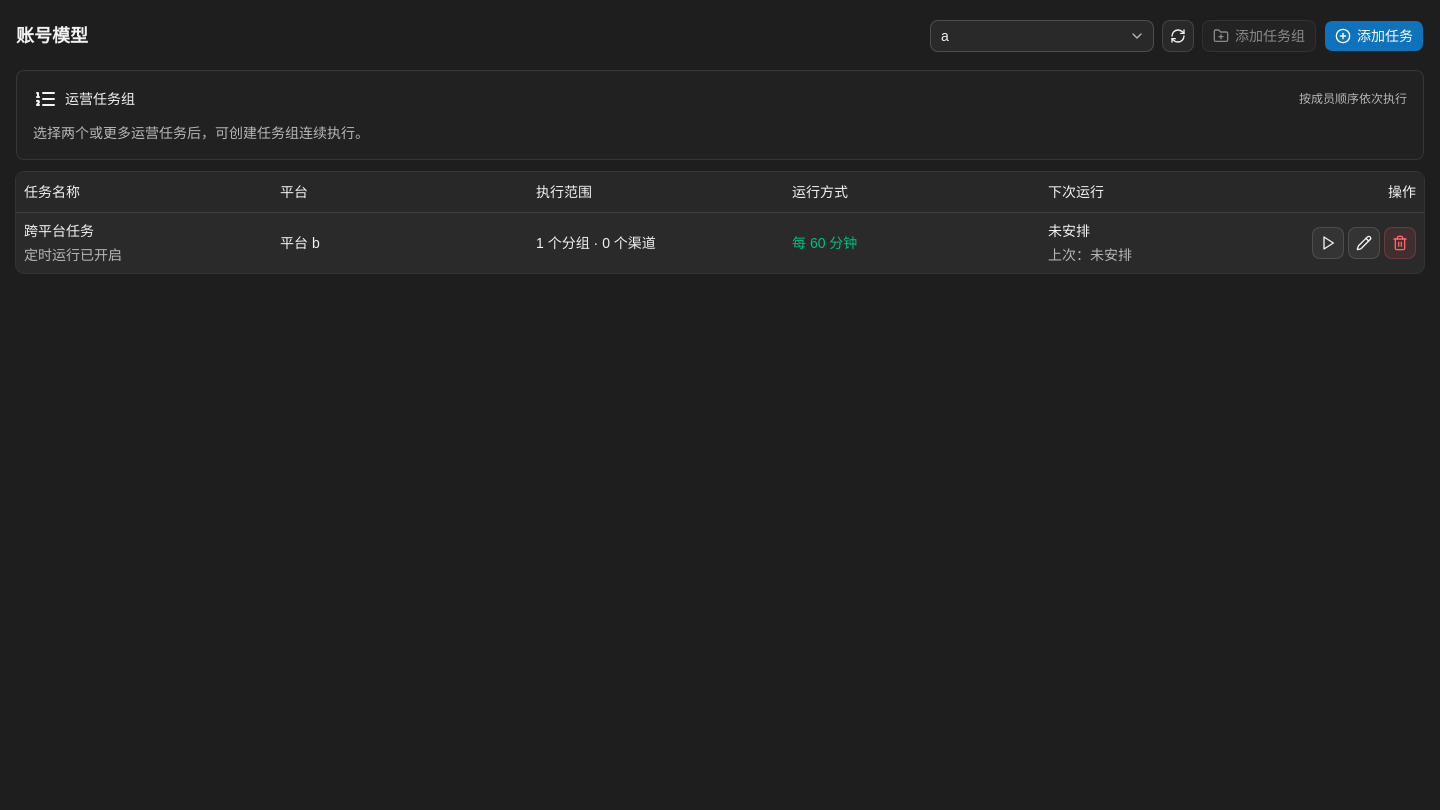
it: 编辑渠道读取期间通过 取消 关闭时中止请求且迟到分页不重新打开弹窗
Click the button named "编辑": (1364, 242) [1348,226,1380,258]
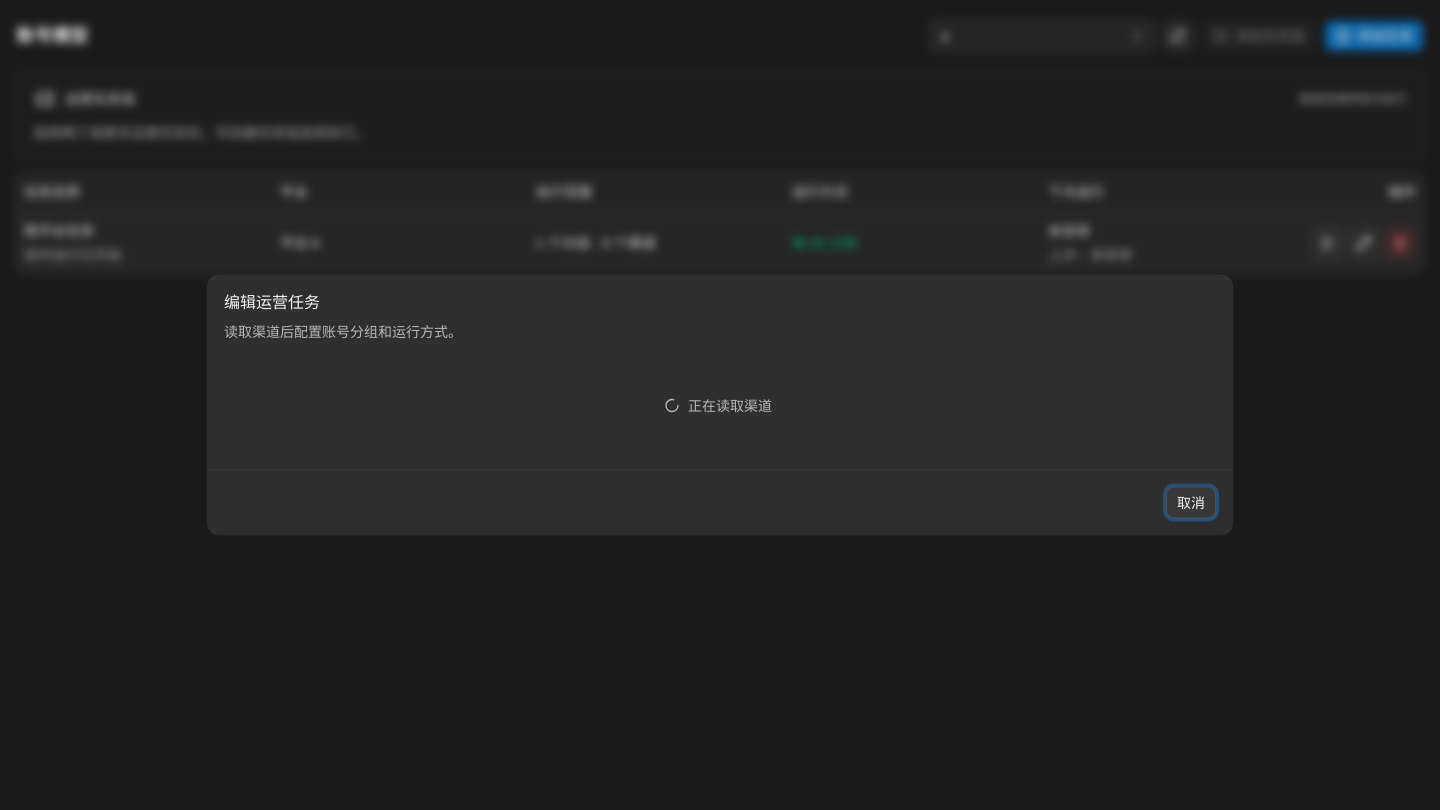
Check: the message "正在读取渠道" is shown, box [664,398,772,414]
Click the button "取消": (1191, 502) [1166,486,1216,518]
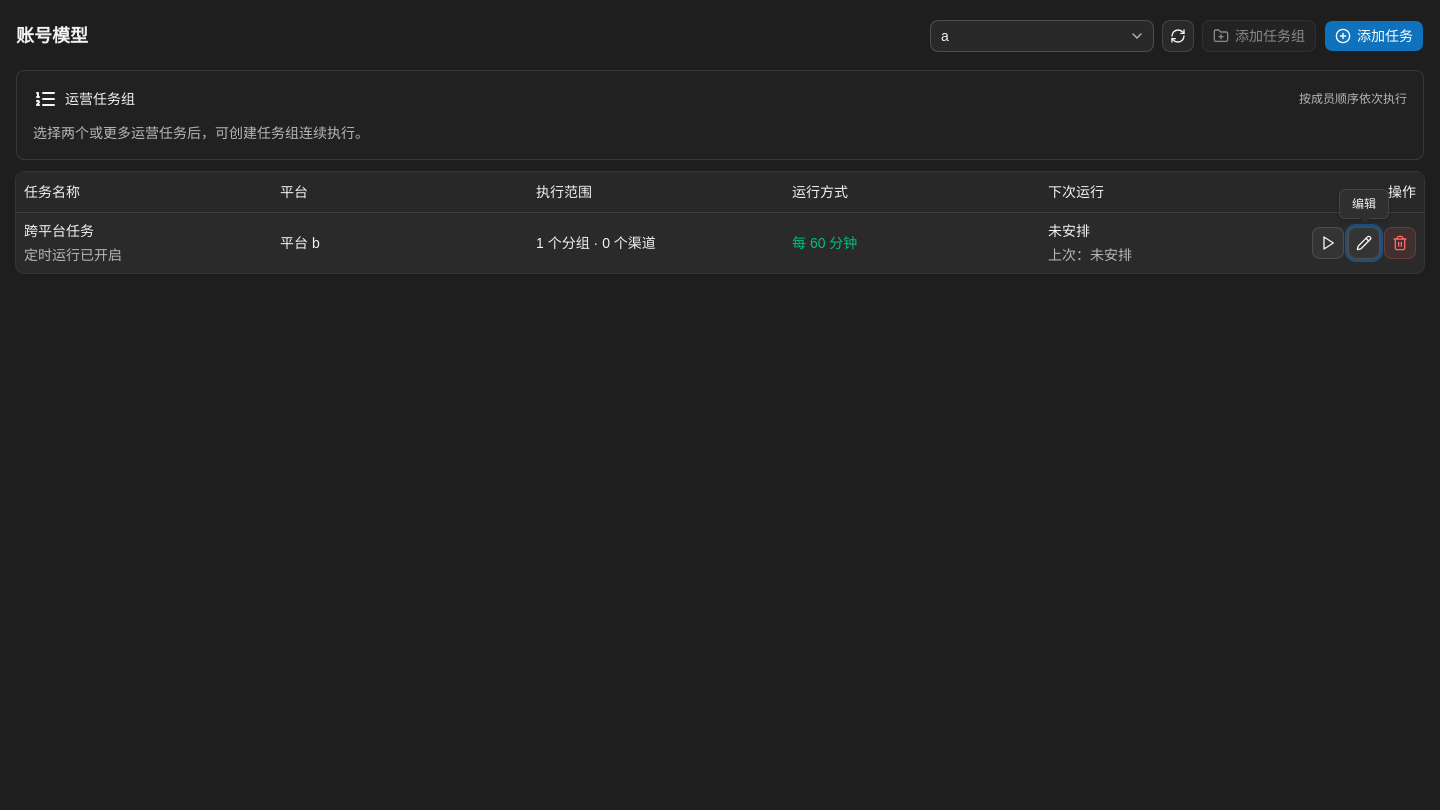
Check: the dialog is gone
